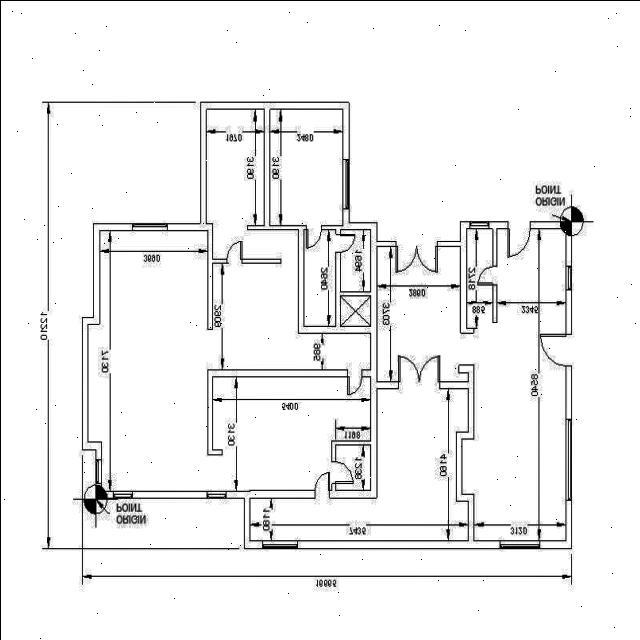Column: (94, 484, 101, 498), (564, 220, 570, 236), (558, 220, 564, 228), (100, 491, 106, 498)
Door: (539, 333, 571, 366), (506, 220, 530, 258), (334, 228, 356, 252), (330, 460, 352, 483), (302, 224, 320, 249), (346, 368, 362, 394), (476, 264, 496, 284), (314, 470, 328, 498), (226, 239, 242, 263)
Double-Door: (397, 354, 439, 388), (394, 240, 436, 272)
Window: (565, 418, 571, 500), (499, 539, 539, 548), (261, 539, 297, 548), (342, 158, 348, 208), (131, 222, 167, 230), (112, 490, 132, 498), (206, 490, 226, 498), (468, 220, 488, 228), (564, 264, 570, 290), (94, 458, 100, 482)
